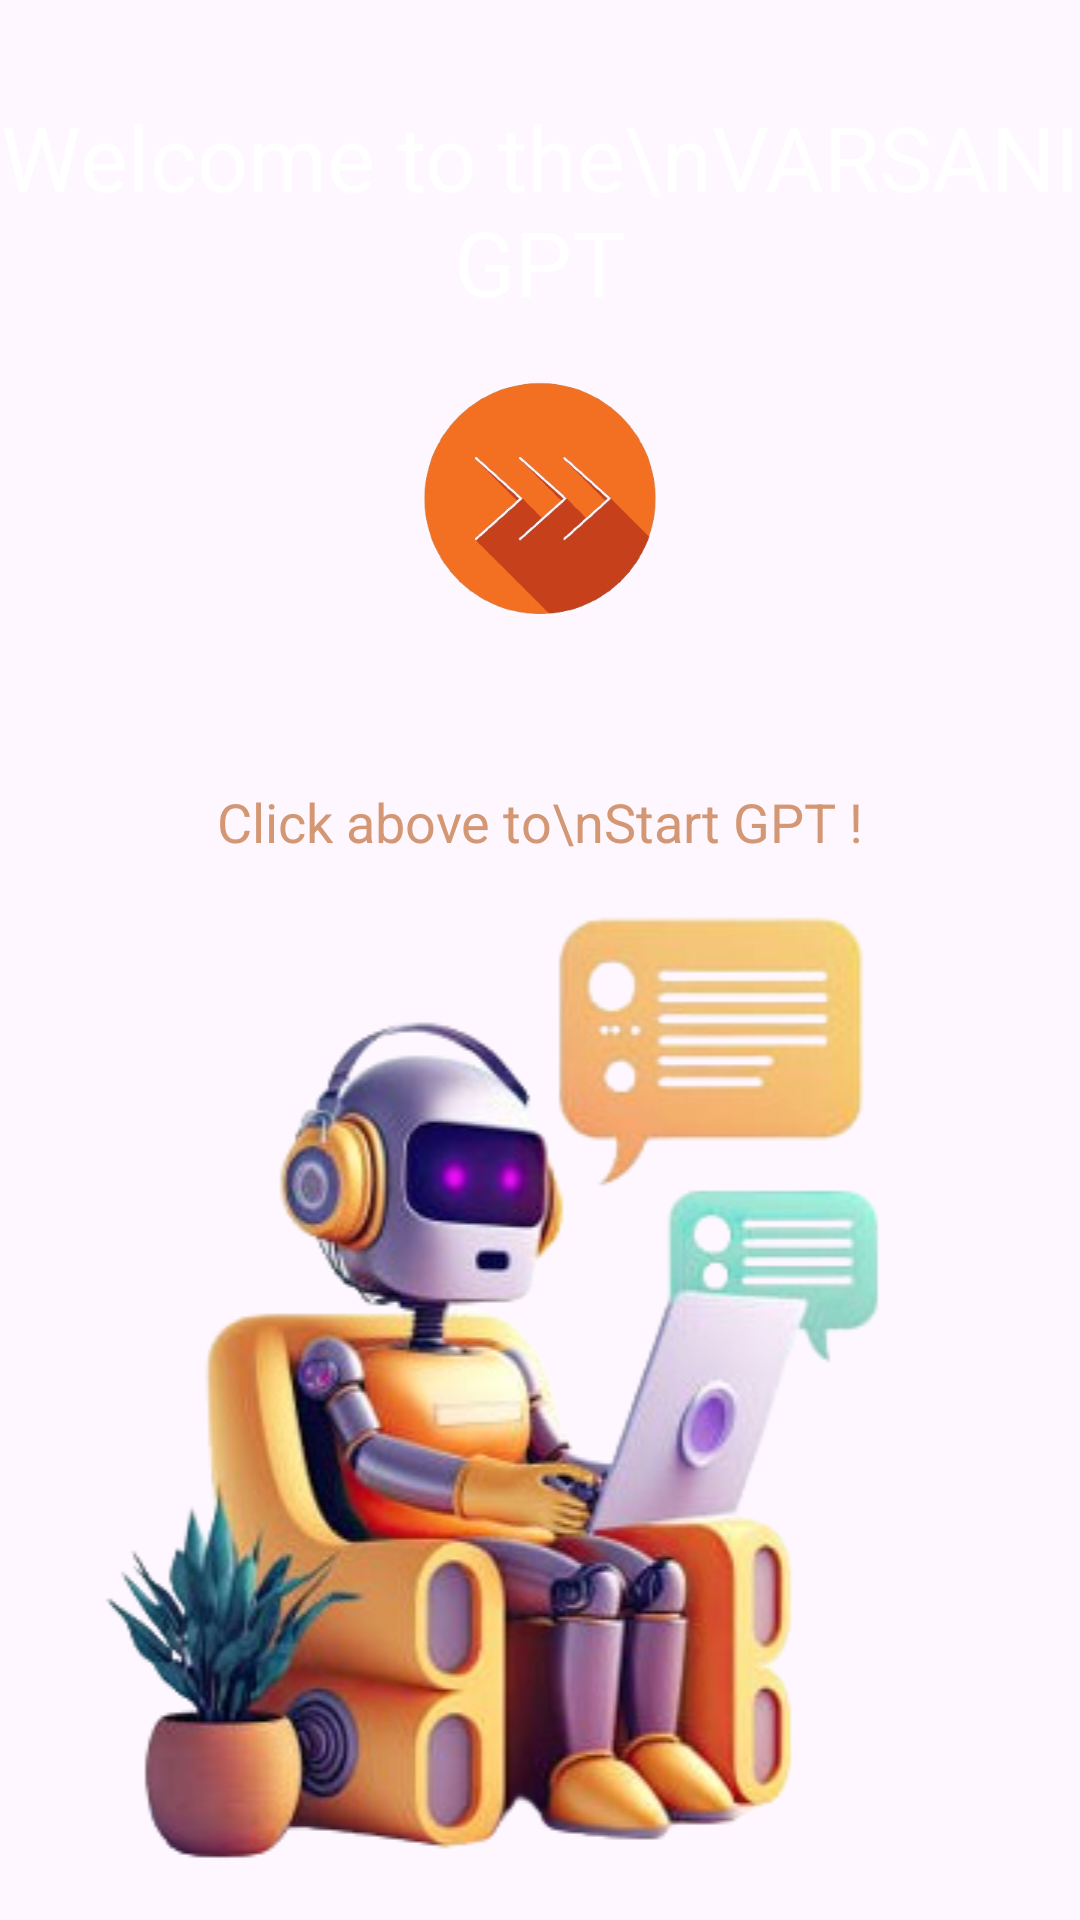

Screen size 1080w x 1920h. Icon name, then its center in pixels as [x,y]:
forward: [540,498]
